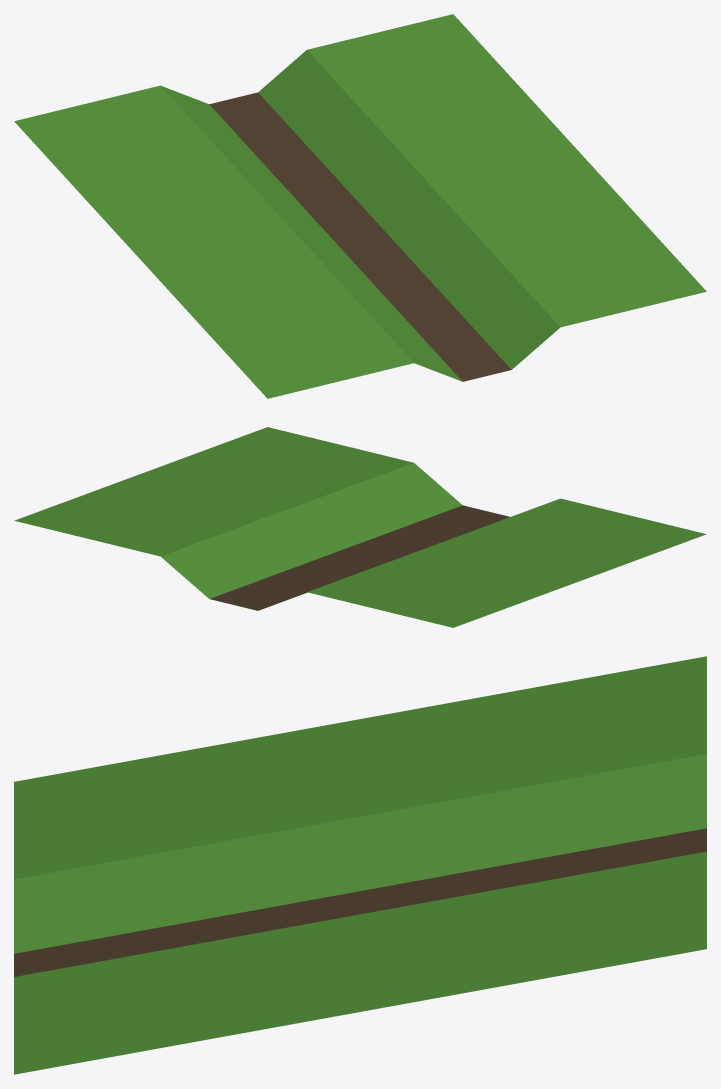
The model's file is tiles-nb_tile-river-basin-hill-nb.fbx.
The picture shows the model from 3 angles, top to bottom: view 1: azimuth 30°, elevation 25°; view 2: azimuth 150°, elevation 25°; view 3: azimuth 270°, elevation 25°; orthographic projection. The views are drawn at different scales.
Visible parts, largest first — view 1: tiles_nb_tile_river_basin_hill_nb; view 2: tiles_nb_tile_river_basin_hill_nb; view 3: tiles_nb_tile_river_basin_hill_nb.
Part boxes in pixels (x1,y1,x2,y2): tiles_nb_tile_river_basin_hill_nb: [14, 14, 706, 398]; tiles_nb_tile_river_basin_hill_nb: [14, 427, 706, 627]; tiles_nb_tile_river_basin_hill_nb: [14, 656, 706, 1074].
Size of the model in its own units: 200 by 53.33 by 200.
